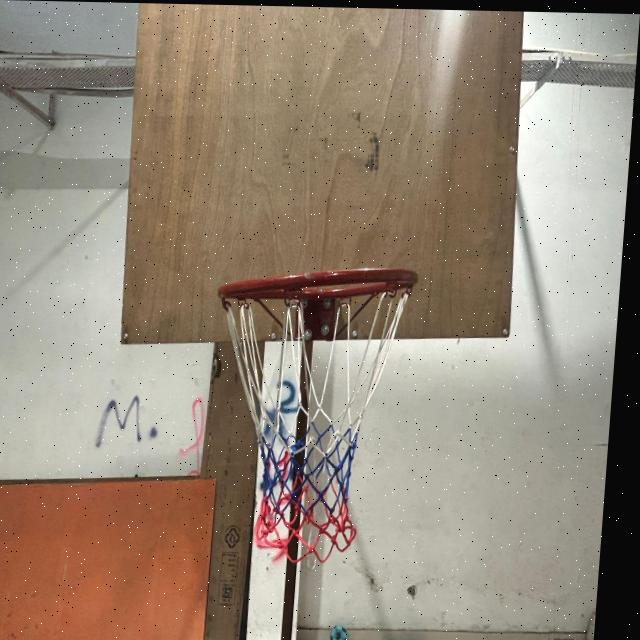hoop: (190, 256, 415, 574)
